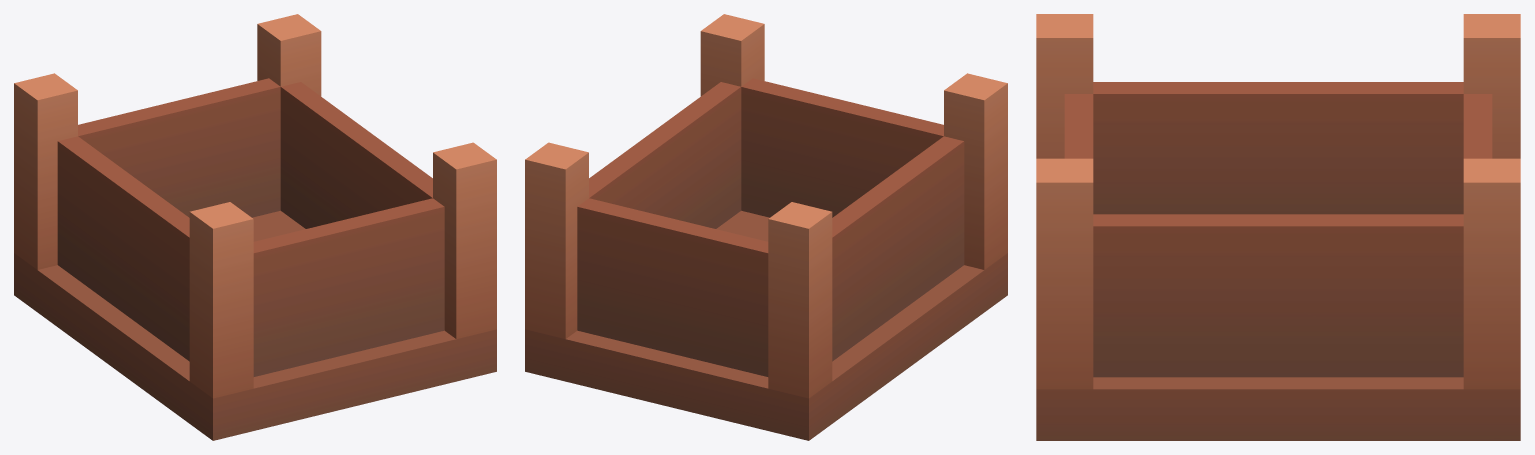
The model's file is crate.glb.
3 renders of one model, left to right at view 1: azimuth 30°, elevation 25°; view 2: azimuth 150°, elevation 25°; view 3: azimuth 270°, elevation 25°, orthographic. The views are drawn at different scales.
Parts seen in each view (by area): view 1: crate; view 2: crate; view 3: crate.
Boxes of the visible parts, box(x1,y1,x2,y2) form: crate: box(14, 14, 496, 440); crate: box(525, 14, 1007, 440); crate: box(1036, 14, 1520, 440).
Bounding box in the file's own units: 1.26 × 0.9 × 1.53.
1 material, 1 textured.
